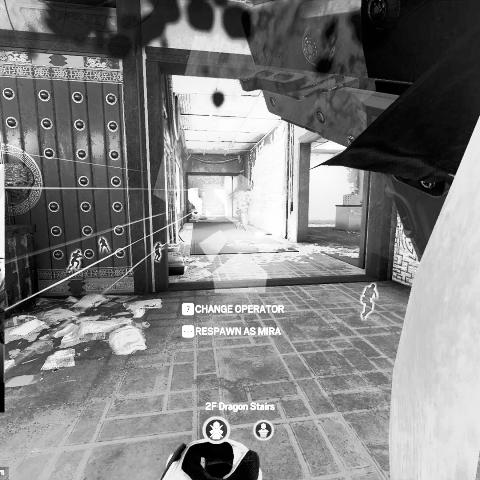Character: (235, 188, 255, 232)
Head: (246, 188, 252, 196)
